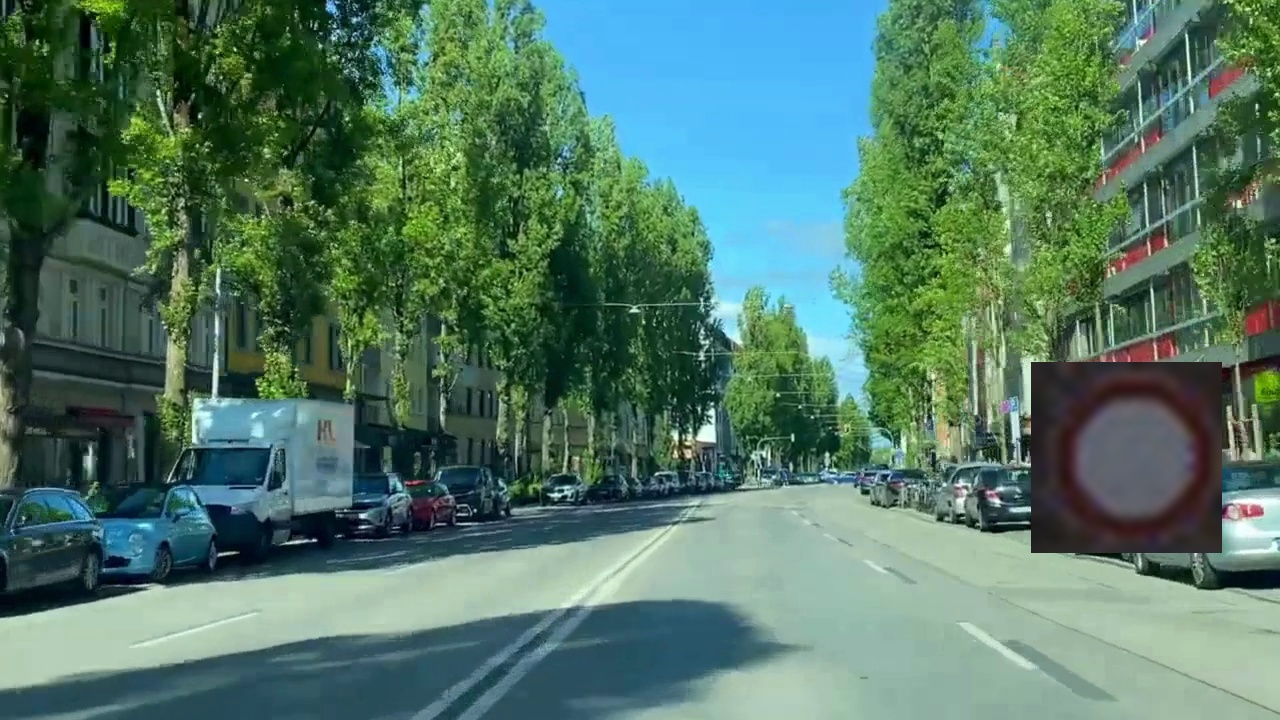No vehicles: (1031, 362, 1222, 553)
